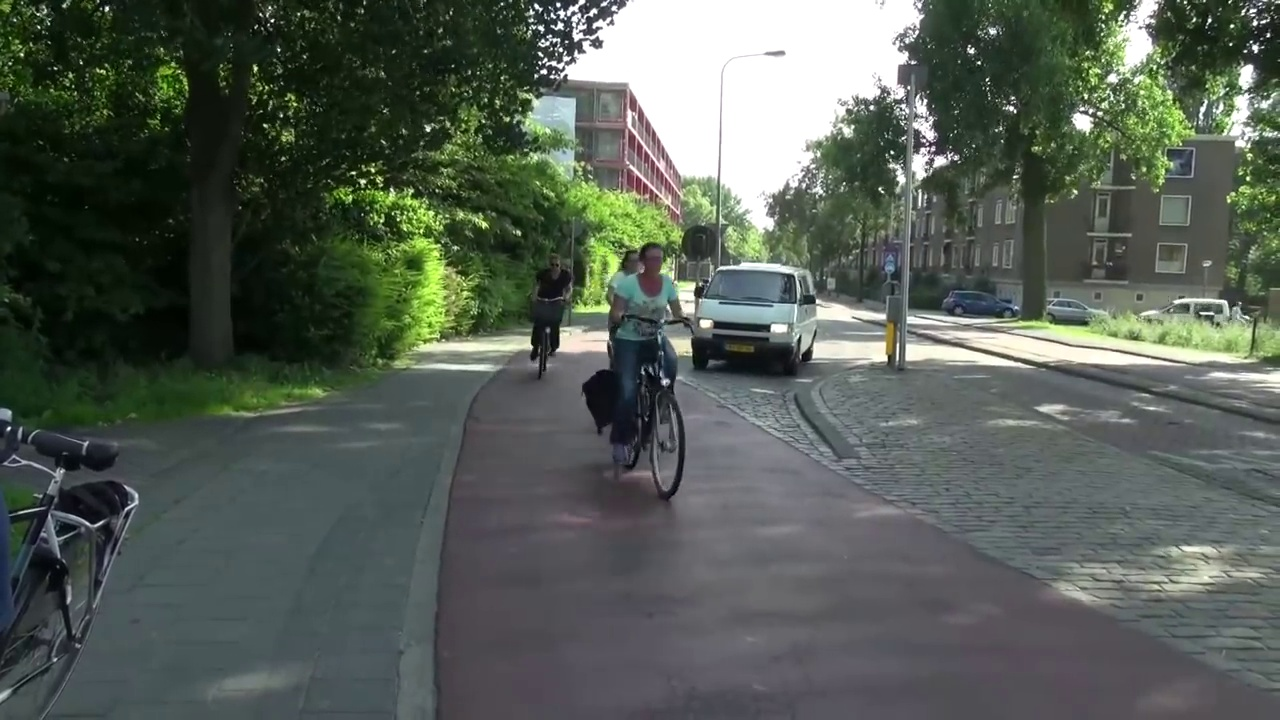cyclist_front: (599, 239, 698, 509), (526, 249, 568, 383)
